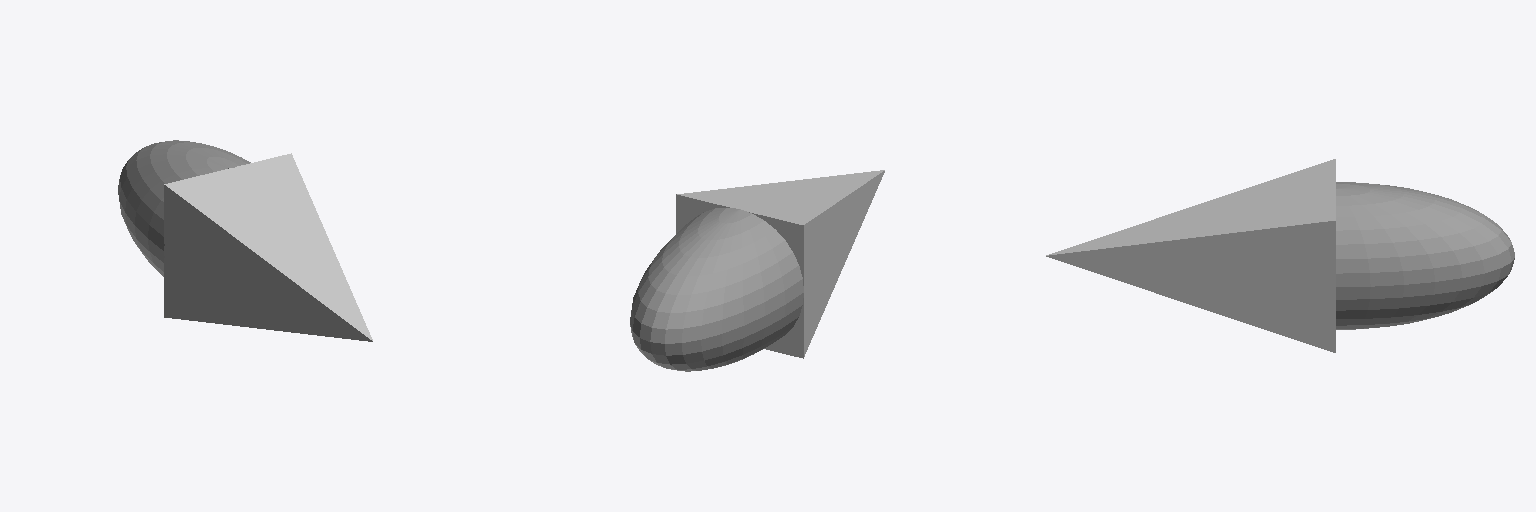
Rendered from fighter.obj.
3 views of the same model, side by side, from view 1: azimuth 30°, elevation 25°; view 2: azimuth 150°, elevation 25°; view 3: azimuth 270°, elevation 25° (orthographic).
Visible parts, largest first — view 1: Cube, Sphere; view 2: Sphere, Cube; view 3: Cube, Sphere.
Boxes of the visible parts, x1,y1,x2,y2 form: Cube: [164, 153, 372, 341]; Sphere: [118, 140, 250, 276]; Sphere: [630, 208, 803, 371]; Cube: [676, 170, 884, 358]; Cube: [1046, 159, 1335, 352]; Sphere: [1336, 182, 1514, 329].
Bounding box in the file's own units: 2.02 × 2.02 × 6.41.